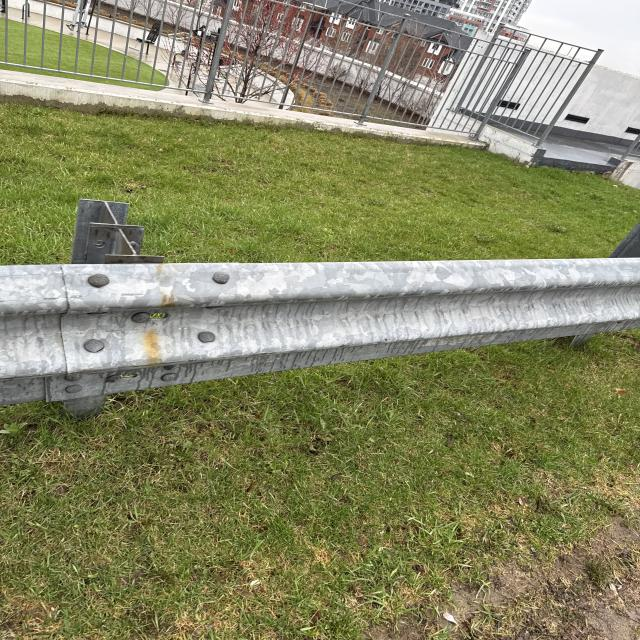Guard rail: (12, 213, 618, 395)
